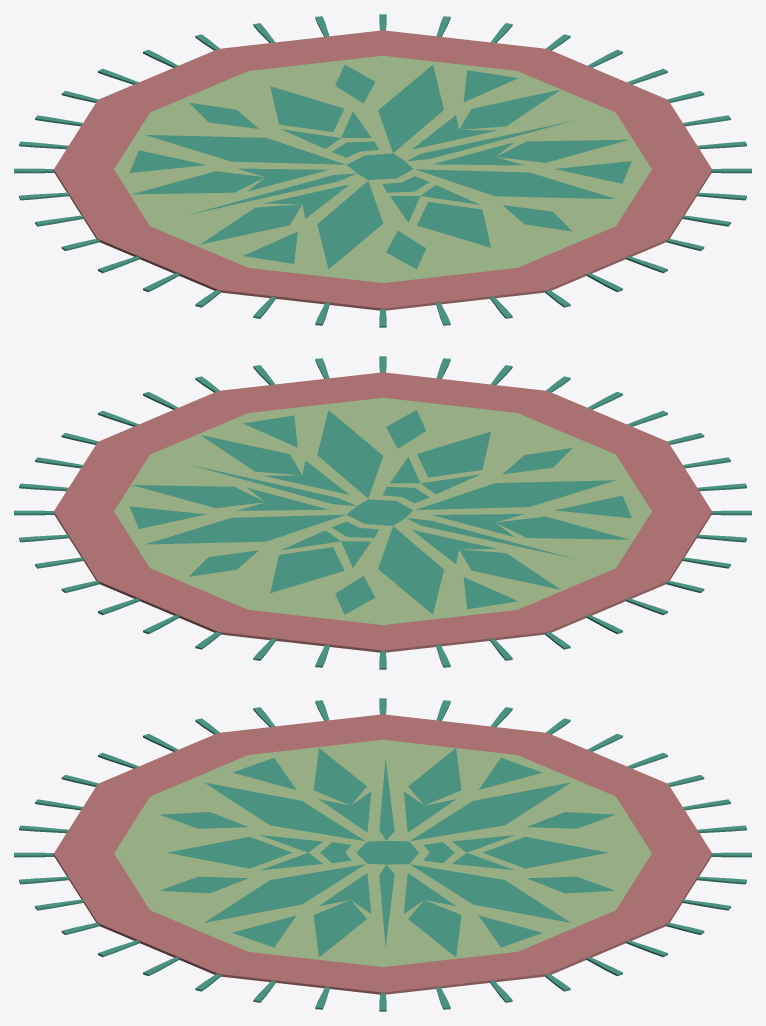
Rendered from Carpet_3.fbx.
3 renders of one model, top to bottom at view 1: azimuth 30°, elevation 25°; view 2: azimuth 150°, elevation 25°; view 3: azimuth 270°, elevation 25°, orthographic.
Parts seen in each view (by area): view 1: Carpet_3; view 2: Carpet_3; view 3: Carpet_3.
Part boxes in pixels (x1,y1,x2,y2): Carpet_3: (14, 14, 751, 327); Carpet_3: (14, 356, 751, 669); Carpet_3: (14, 698, 751, 1011).
Bounding box in the file's own units: 318 × 318 × 1.49.
